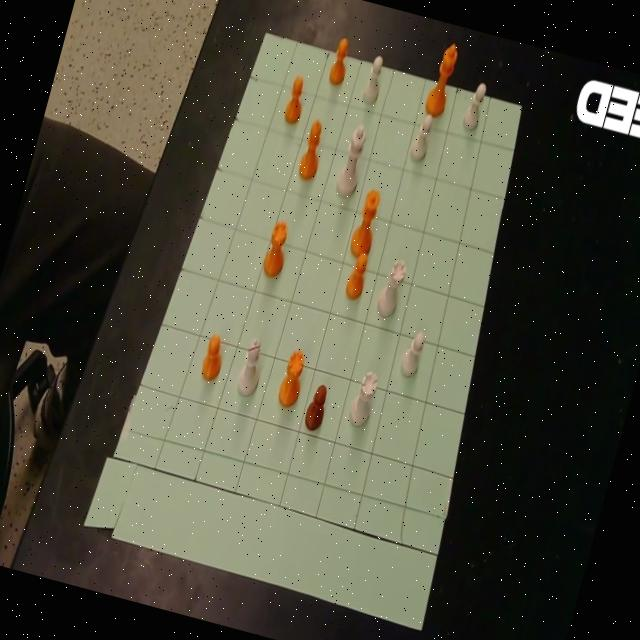orange_bishop: (296, 116, 329, 181)
orange_king: (422, 38, 462, 118)
orange_pawn: (199, 331, 229, 383), (342, 248, 372, 300), (302, 381, 331, 432), (282, 73, 310, 124), (326, 36, 354, 86)
orange_queen: (348, 185, 385, 258)
orange_rook: (275, 347, 310, 409), (260, 216, 294, 278)
white_bishop: (234, 336, 269, 398)
white_king: (333, 120, 372, 198)
white_pawn: (408, 108, 437, 162), (397, 328, 427, 380), (461, 77, 488, 132), (360, 52, 388, 103)
white_rook: (374, 256, 409, 320), (346, 368, 381, 428)
